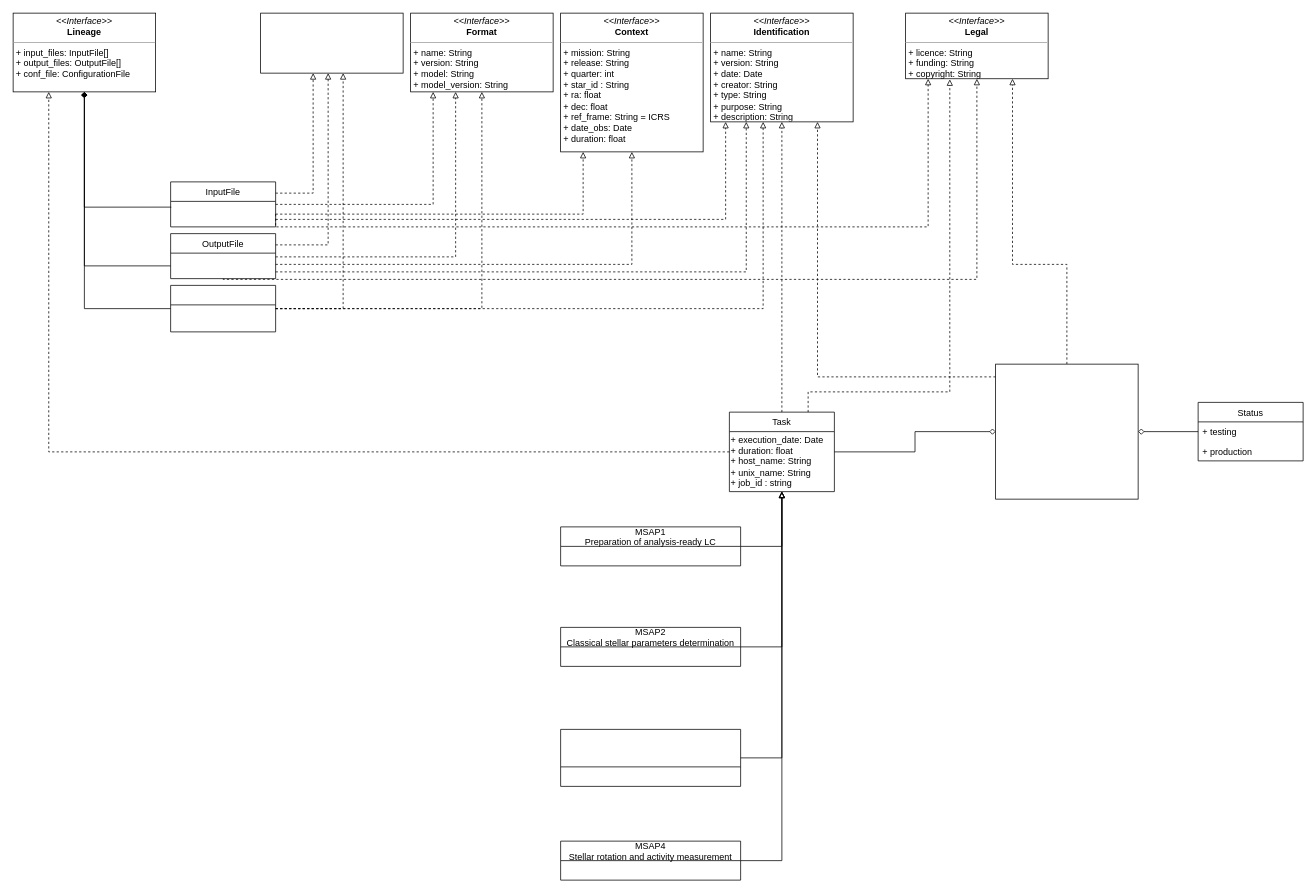
Image size: 1316x893. Some labels were removed from this diagram. The shapes that lost their labels are listed below. From the top down, each one's centre as x and y in pixels, then its label:
(x=331, y=42): <<Interface>> Integrity + checksum: String
(x=223, y=308): ConfigurationFile
(x=1066, y=431): Pipeline + status: Status + tasks : Task[] + log_file
(x=650, y=757): MSAP3 Stellar oscillation modes detection and measurement
